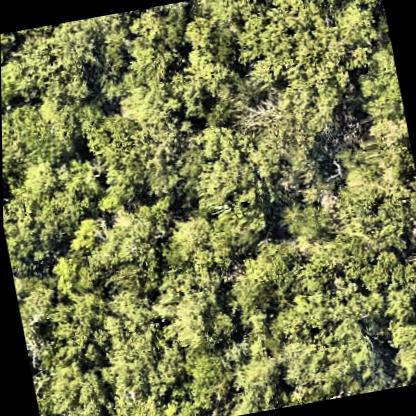tree-top: (222, 0, 335, 103), (162, 118, 271, 218), (0, 19, 102, 117), (2, 175, 81, 287), (267, 318, 376, 398), (144, 280, 234, 362), (86, 199, 178, 276), (330, 164, 414, 248), (37, 288, 124, 368), (1, 93, 77, 177), (121, 2, 195, 82), (84, 111, 157, 188), (201, 202, 279, 270), (162, 51, 233, 122), (38, 358, 113, 416), (176, 340, 238, 410), (350, 44, 404, 123), (270, 124, 331, 180), (49, 152, 103, 209), (327, 0, 380, 52), (382, 311, 416, 386), (228, 274, 278, 321), (276, 197, 320, 243), (382, 283, 416, 328), (113, 396, 164, 416)
